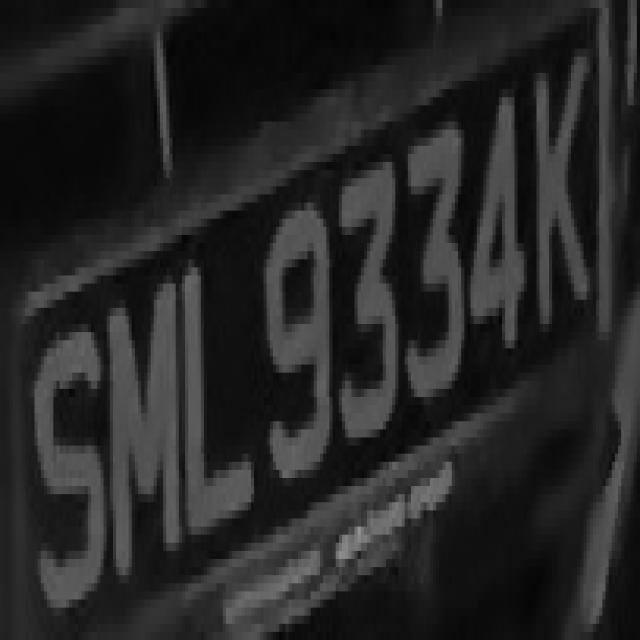3: (329, 178, 405, 478), (405, 106, 464, 430)
4: (471, 65, 536, 397)
9: (254, 235, 339, 494)
K: (533, 40, 612, 381)
L: (166, 251, 264, 543)
M: (88, 284, 179, 575)
S: (15, 324, 106, 624)
